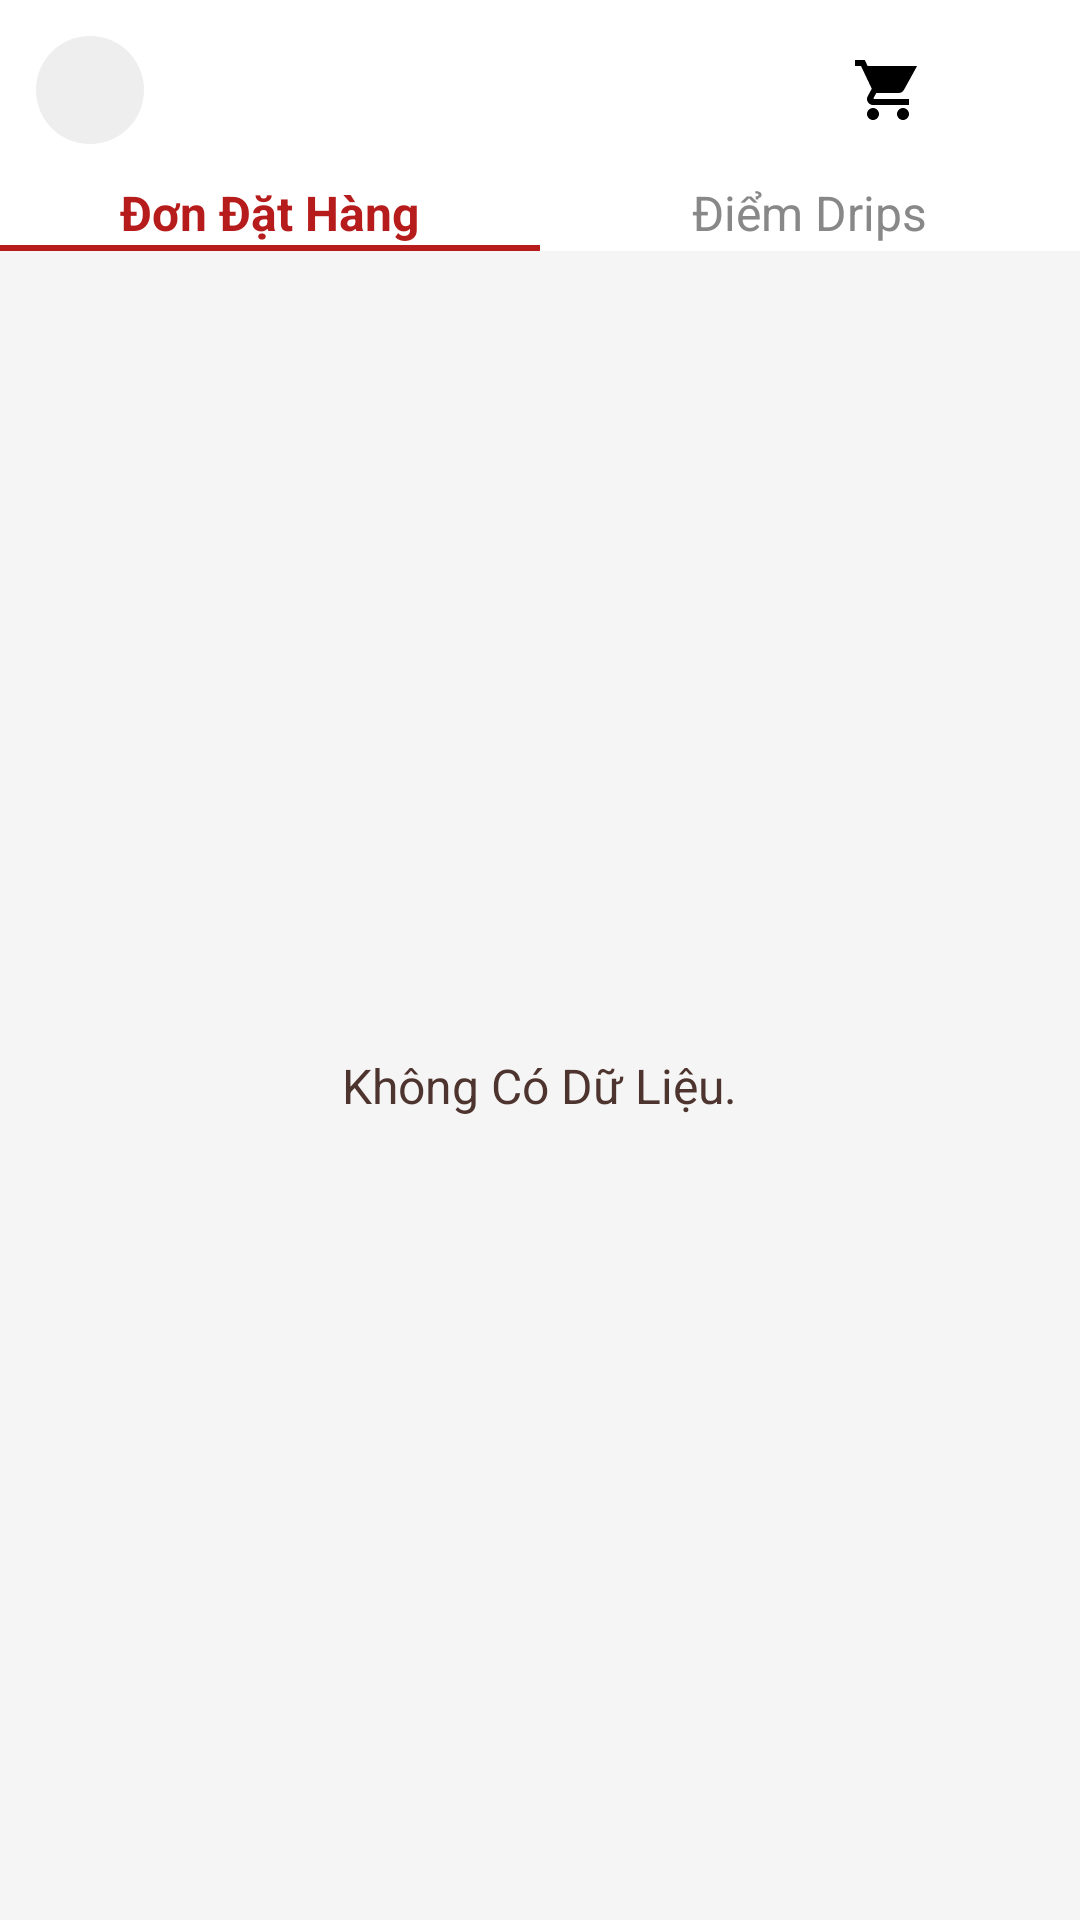

Icon bounding boxes for this 1080 × 1920 phone screenshot, format rect(x1, y1, x2, y2):
order: rect(855, 60, 917, 120)
